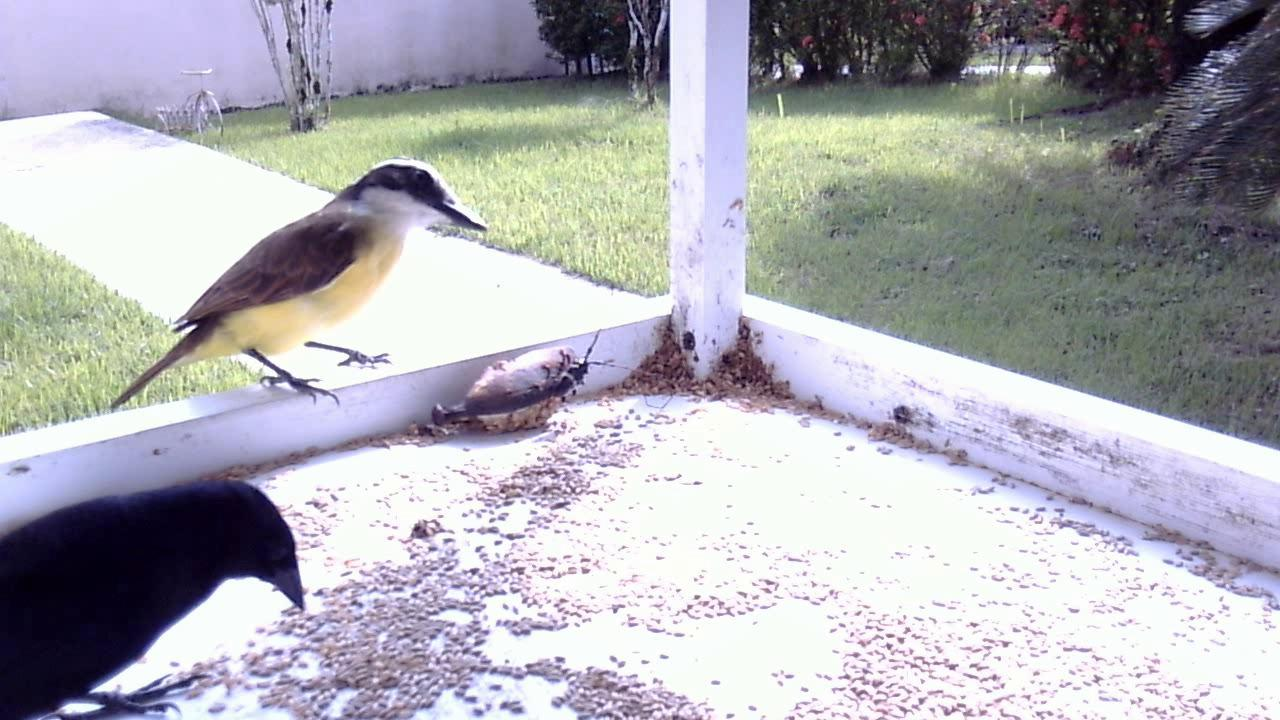bem_te_vi: (83, 140, 499, 431)
chupim: (1, 464, 318, 720)
